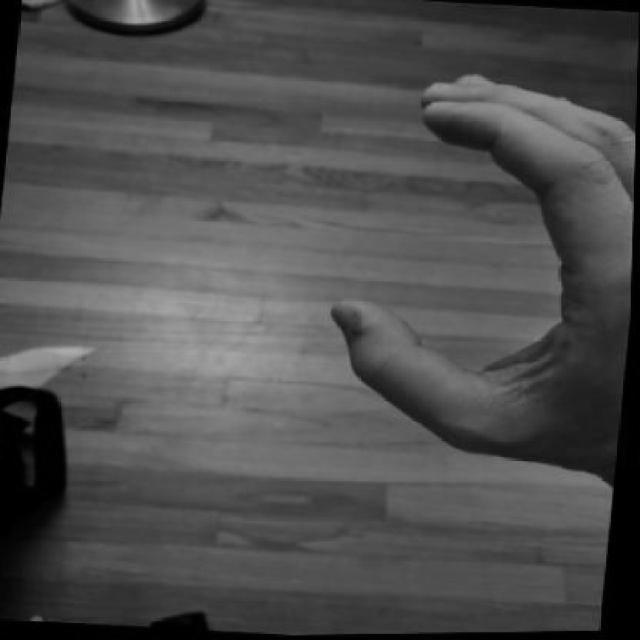C: (306, 59, 637, 493)
